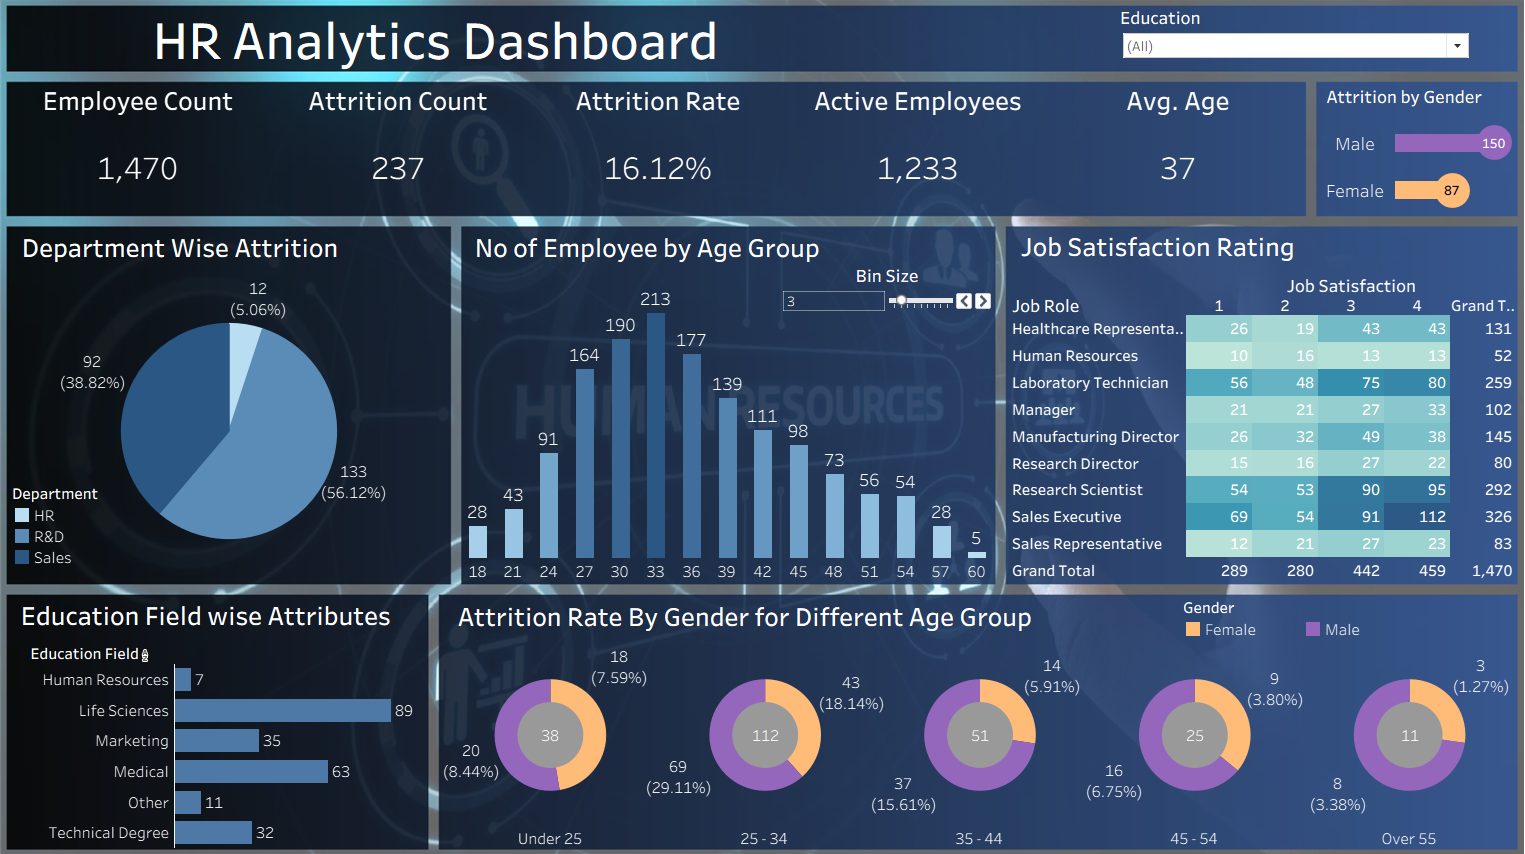

This screenshot's page, from the dashboard's own definition file:
{"tool":"tableau","page":{"name":"HR Dashboard","canvas":[1580,900],"ordinal":0},"visuals":[{"type":"image","param":"C:/Users/meett/Downloads/ilovepdf_pages-to-jpg/HR background.pptx_page-0001.jpg","box":[8,8,32,884]},{"type":"image","param":"C:/Users/meett/Downloads/HR background.pptx_page-0001.jpg","box":[40,8,1532,884]},{"type":"filter","title":"Department Wise Attrition","param":"[federated.19hnufu1jl88e51eijw5s1v7nqz6].[none:Education:nk]","box":[1164,27,352,65]},{"type":"text","box":[51,28,857,65]},{"type":"worksheet","title":"HR Data","mark":"Automatic","box":[52,102,1300,136]},{"type":"worksheet","title":"Attrition by Gender","mark":"Bar","rows":["Gender"],"cols":["Calculation_912260434516316160","Calculation_912260434516316160"],"box":[1359,102,202,134]},{"type":"worksheet","title":"Job Satisfaction Rating","mark":"Square","rows":["Job Role"],"cols":["Job Satisfaction"],"box":[1050,247,510,359]},{"type":"worksheet","title":"Department Wise Attrition","mark":"Pie","box":[51,248,444,360]},{"type":"worksheet","title":"No of Employee by Age Group","mark":"Automatic","rows":["Employee Count"],"cols":["Age (bin)"],"box":[504,248,535,357]},{"type":"parameter","param":"[Parameters].[Parameter 2]","box":[824,285,214,73]},{"type":"legend","title":"Department Wise Attrition","param":"[federated.19hnufu1jl88e51eijw5s1v7nqz6].[none:Department:nk]","box":[56,505,98,100]},{"type":"worksheet","title":"Education Field wise Attributes","mark":"Automatic","rows":["Education Field"],"cols":["Calculation_912260434516316160"],"box":[50,616,424,254]},{"type":"worksheet","title":"Attrition Rate By Gender for Different Age Group","mark":"Pie","rows":["Calculation_1070167902842163201","Calculation_1070167902842163201"],"cols":["CF_age band"],"box":[487,617,1074,253]},{"type":"legend","title":"Attrition Rate By Gender for Different Age Group","param":"[federated.19hnufu1jl88e51eijw5s1v7nqz6].[none:Gender:nk]","box":[1227,619,271,50]}]}

Visuals, with their boxes in screenshot pixels (x1, y1, x2, y2), scaled from the page's 1580x900 canvas onto the 1525x854 screenshot:
image: bbox=[8, 8, 39, 846]
image: bbox=[39, 8, 1517, 846]
"Department Wise Attrition" filter: bbox=[1123, 26, 1463, 87]
text: bbox=[49, 27, 876, 88]
"HR Data" worksheet: bbox=[50, 97, 1305, 226]
"Attrition by Gender" worksheet (Bar marks): bbox=[1312, 97, 1507, 224]
"Job Satisfaction Rating" worksheet (Square marks): bbox=[1013, 234, 1506, 575]
"Department Wise Attrition" worksheet (Pie marks): bbox=[49, 235, 478, 577]
"No of Employee by Age Group" worksheet: bbox=[486, 235, 1003, 574]
parameter: bbox=[795, 270, 1002, 340]
"Department Wise Attrition" legend: bbox=[54, 479, 149, 574]
"Education Field wise Attributes" worksheet: bbox=[48, 585, 458, 826]
"Attrition Rate By Gender for Different Age Group" worksheet (Pie marks): bbox=[470, 585, 1507, 826]
"Attrition Rate By Gender for Different Age Group" legend: bbox=[1184, 587, 1446, 635]
